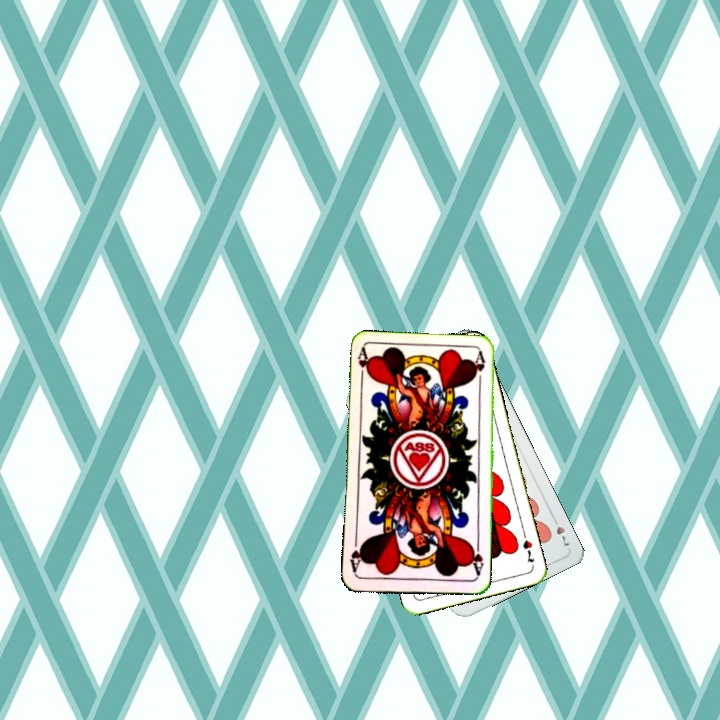H7: (548, 512, 572, 550), (519, 528, 537, 565)
HA: (466, 539, 486, 579), (354, 346, 373, 386)
